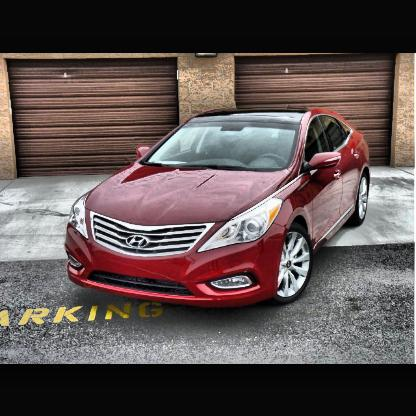Hyundai Azera Sedan 2012: (64, 106, 373, 313)
